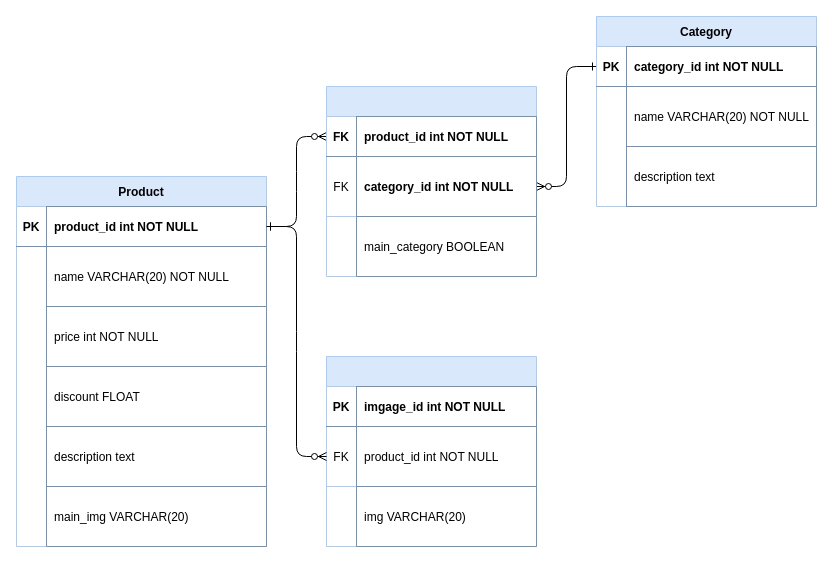
Some shapes in this 833 by 563 pixel diagram are drawn without their labels. The box of each missing label's shape, as (x1, y1, x2, y2) in pixels:
Image: (326, 356, 536, 546)
Product_category: (326, 86, 536, 276)
